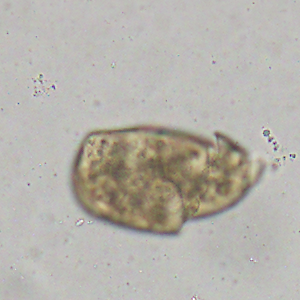Fasciola_hepatica_egg: (68, 121, 270, 238)
